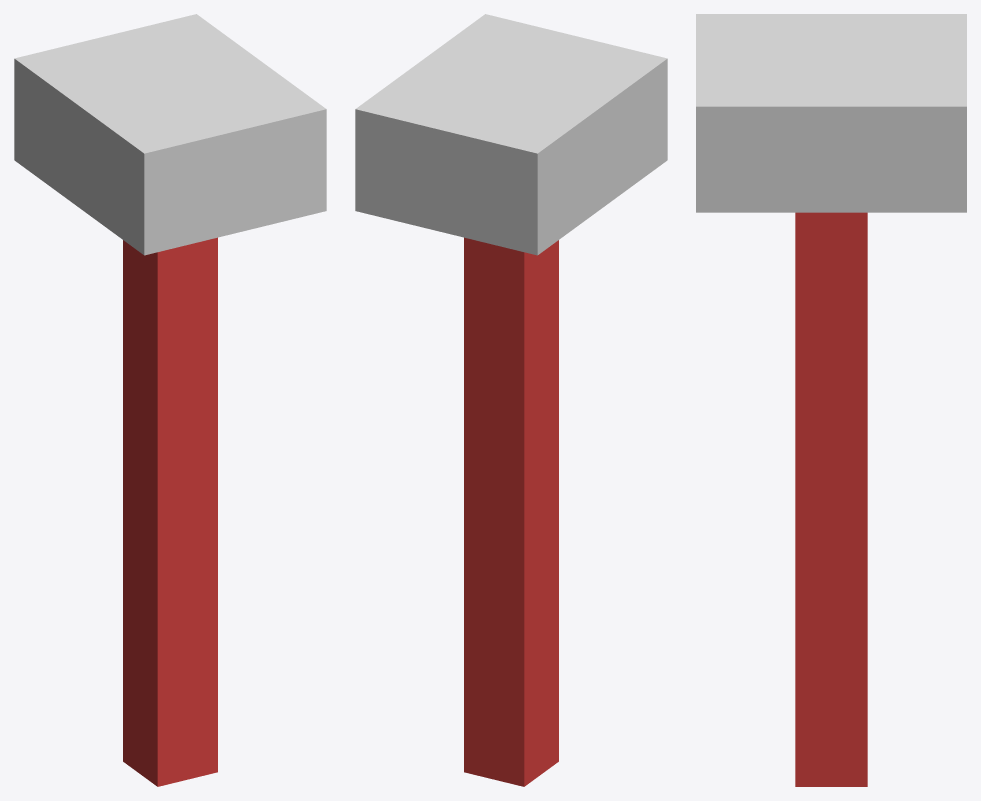
Rendered from kuvalda.fbx.
The picture shows the model from 3 angles, left to right: view 1: azimuth 30°, elevation 25°; view 2: azimuth 150°, elevation 25°; view 3: azimuth 270°, elevation 25°; orthographic projection. The views are drawn at different scales.
Visible parts, largest first — view 1: Cube; view 2: Cube; view 3: Cube.
Boxes of the visible parts, left/top/right/bottom form: Cube: left=14, top=14, right=326, bottom=786; Cube: left=355, top=14, right=667, bottom=786; Cube: left=696, top=14, right=966, bottom=786.
Size of the model in its own units: 78.29 by 280 by 96.73.
